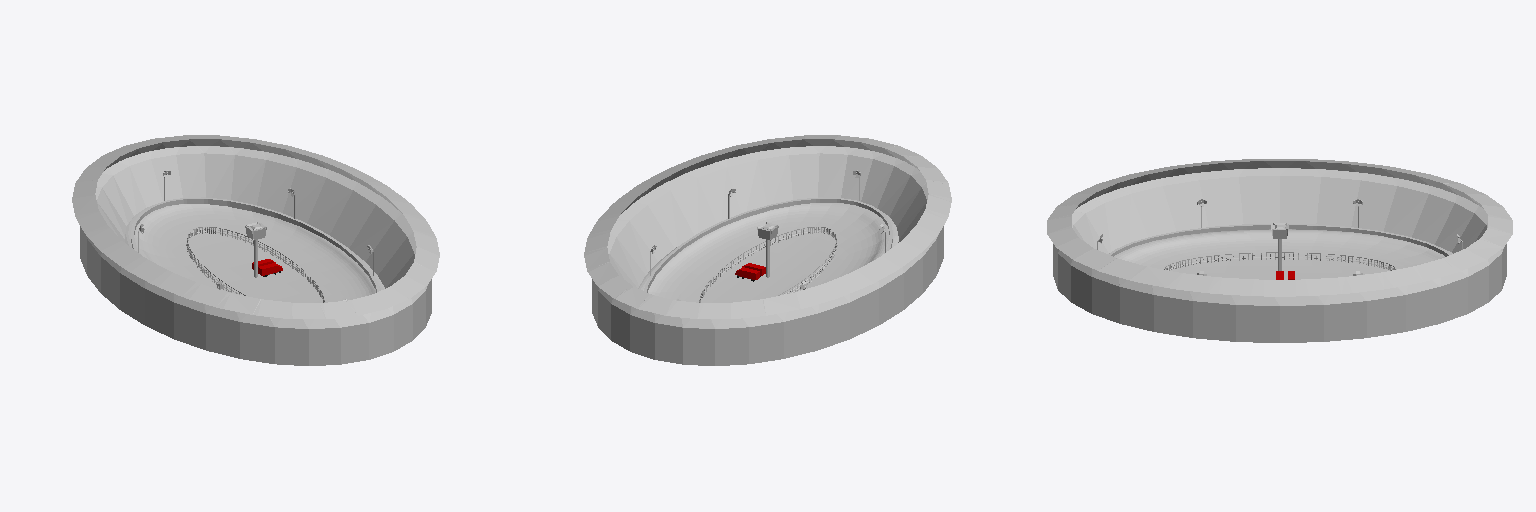
File: Stade_et_piste_version_finale.obj
The picture shows the model from 3 angles: view 1: azimuth 30°, elevation 25°; view 2: azimuth 150°, elevation 25°; view 3: azimuth 270°, elevation 25°; orthographic projection.
Parts seen in each view (by area): view 1: Stade, Piste, Barriere; view 2: Stade, Piste, Barriere; view 3: Stade, Piste, Barriere.
Boxes of the visible parts, x1=… form: Stade: x1=72, y1=135, x2=439, y2=365; Piste: x1=125, y1=204, x2=384, y2=302; Barriere: x1=186, y1=227, x2=324, y2=302; Stade: x1=584, y1=135, x2=951, y2=365; Piste: x1=638, y1=203, x2=898, y2=302; Barriere: x1=699, y1=227, x2=837, y2=302; Stade: x1=1047, y1=159, x2=1512, y2=342; Piste: x1=1109, y1=229, x2=1452, y2=279; Barriere: x1=1164, y1=252, x2=1395, y2=270.
Bounding box in the file's own units: 22.35 × 5.4 × 31.9.